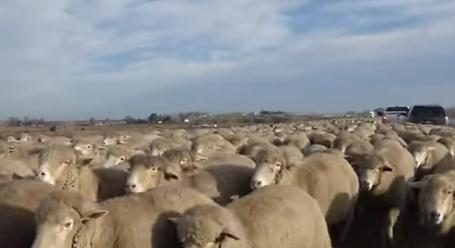sheep: (247, 147, 360, 240), (172, 184, 330, 248), (33, 186, 170, 248), (126, 153, 256, 208), (352, 143, 418, 248), (35, 144, 126, 204), (408, 170, 454, 248)
